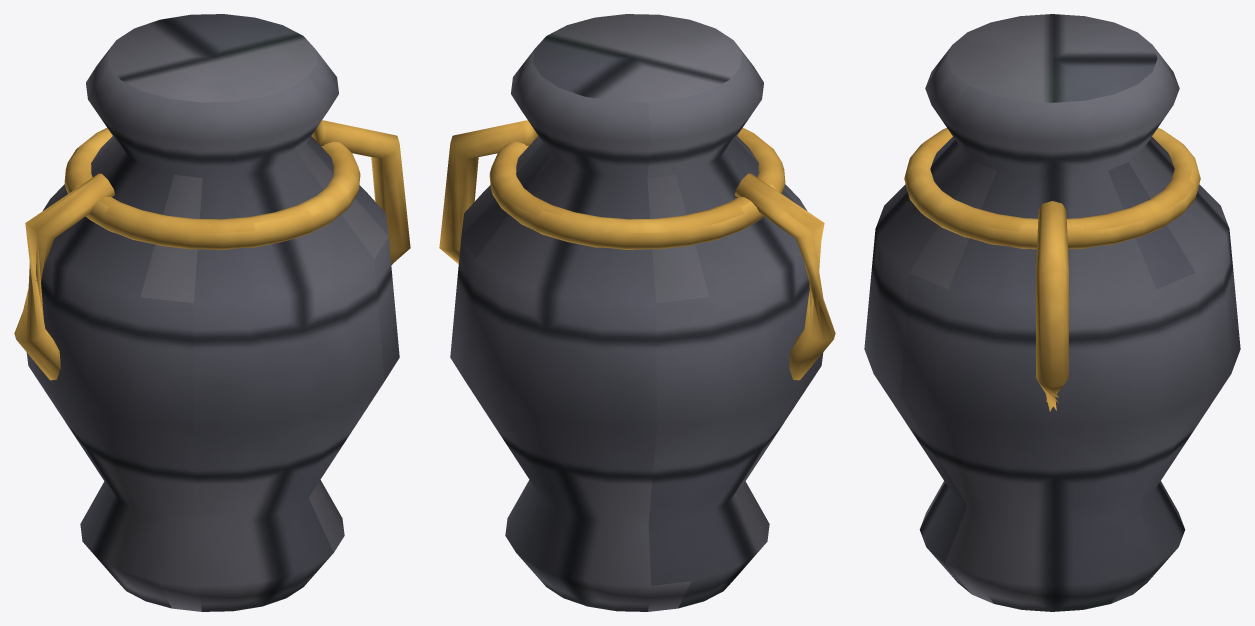
The model's file is urn.glb.
3 renders of one model, left to right at view 1: azimuth 30°, elevation 25°; view 2: azimuth 150°, elevation 25°; view 3: azimuth 270°, elevation 25°, orthographic.
Visible parts, largest first — view 1: UrnVessel, UrnCollar, Handle, Handle.001; view 2: UrnVessel, UrnCollar, Handle, Handle.001; view 3: UrnVessel, UrnCollar, Handle.001.
Part boxes in pixels (x1=…): UrnVessel: x1=26, y1=14, x2=399, y2=611; UrnCollar: x1=64, y1=128, x2=360, y2=249; Handle: x1=14, y1=173, x2=114, y2=380; Handle.001: x1=311, y1=120, x2=410, y2=265; UrnVessel: x1=450, y1=14, x2=823, y2=611; UrnCollar: x1=489, y1=128, x2=785, y2=249; Handle: x1=735, y1=173, x2=835, y2=380; Handle.001: x1=439, y1=120, x2=538, y2=263; UrnVessel: x1=864, y1=14, x2=1240, y2=611; UrnCollar: x1=904, y1=128, x2=1200, y2=249; Handle.001: x1=1036, y1=201, x2=1068, y2=411.
Size of the model in its own units: 0.8192 by 1.02 by 0.68.
Materials: 2 (2 with a texture image).
